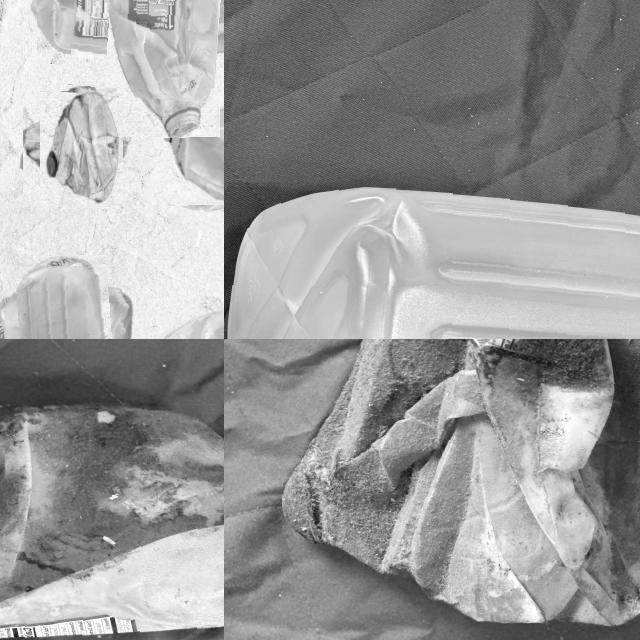milk-jug: (281, 339, 640, 631), (224, 184, 640, 339), (0, 399, 224, 640), (69, 0, 224, 103), (30, 99, 131, 201), (3, 265, 125, 339), (162, 102, 224, 207), (161, 304, 224, 339)
